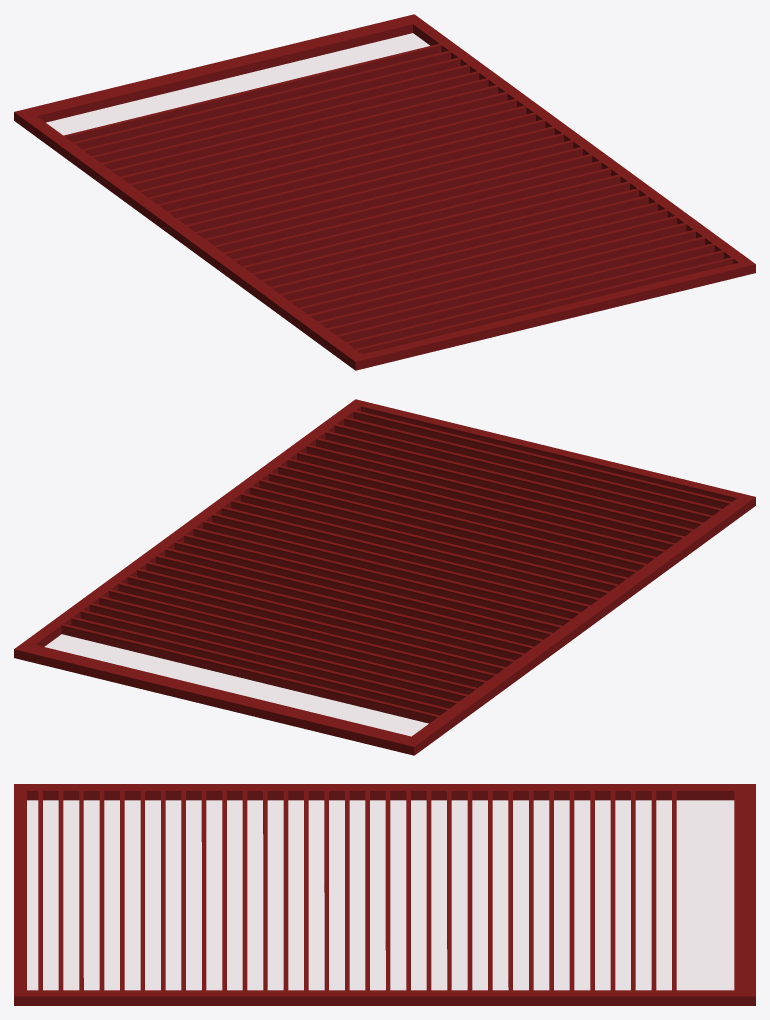
The model's file is SM_Shed_v04.FBX.
The picture shows the model from 3 angles, top to bottom: view 1: azimuth 30°, elevation 25°; view 2: azimuth 150°, elevation 25°; view 3: azimuth 270°, elevation 25°; orthographic projection. The views are drawn at different scales.
Parts seen in each view (by area): view 1: SM_Shed_v04; view 2: SM_Shed_v04; view 3: SM_Shed_v04.
Boxes of the visible parts, bbox=[...] form: SM_Shed_v04: bbox=[14, 14, 755, 370]; SM_Shed_v04: bbox=[14, 399, 755, 755]; SM_Shed_v04: bbox=[14, 784, 755, 1005].
Size of the model in its own units: 19.86 by 0.4165 by 29.35.
Materials: 2 (2 with a texture image).
